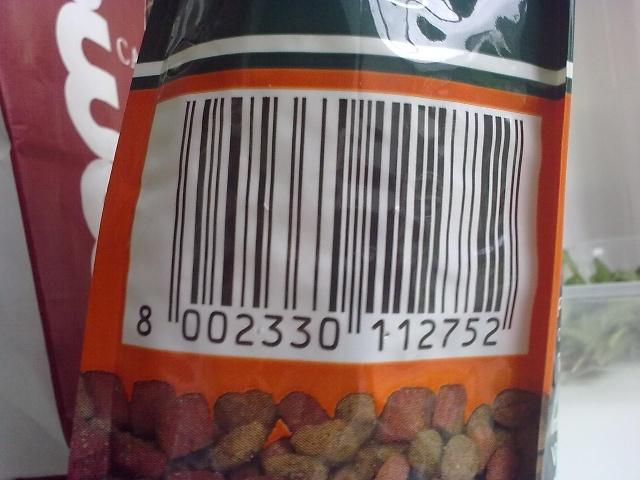Barcode: (121, 88, 545, 364)
